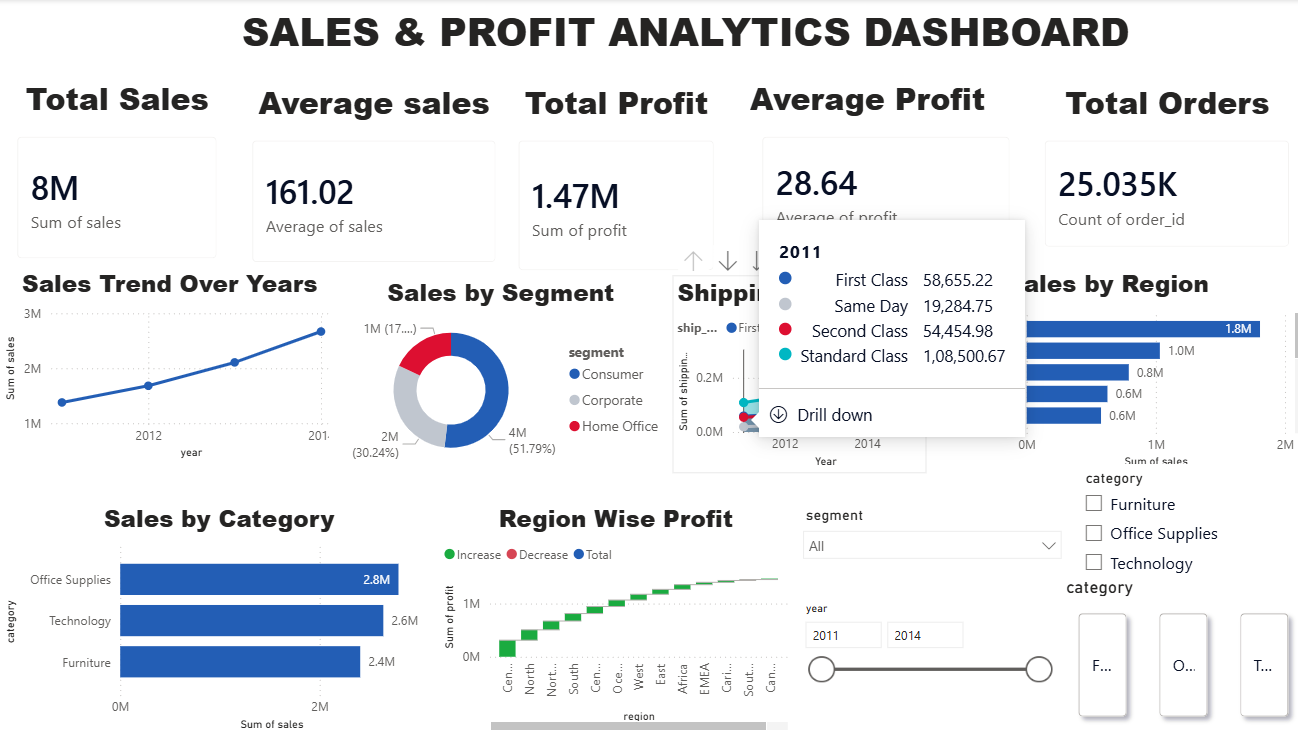

Layout of this report page (visuals, bound fields, positions):
{"tool":"powerbi","page":{"name":"Page 1","canvas":[1280,720],"ordinal":0},"visuals":[{"type":"cardVisual","title":"Total Profit","fields":{"Data":["Sum(superstore_cleaned_final csv.profit)"]},"box":[490.3,81.2,225.2,202.4],"z":0},{"type":"cardVisual","title":"Average Profit","fields":{"Data":["Avg(superstore_cleaned_final csv.profit)"]},"box":[728.4,77,276.5,183.9],"z":1000},{"type":"cardVisual","title":"Total Orders","fields":{"Data":["Count(superstore_cleaned_final csv.order_id)"]},"box":[1004.9,81.2,273.7,179.6],"z":2000},{"type":"cardVisual","title":"Total  Sales","fields":{"Data":["Sum(superstore_cleaned_final csv.sales)"]},"box":[0,77,229.5,193.9],"z":3000},{"type":"cardVisual","title":"Average  sales","fields":{"Data":["Avg(superstore_cleaned_final csv.sales)"]},"box":[229.5,81.2,272.2,193.9],"z":4000},{"type":"lineChart","title":"Sales Trend Over Years","fields":{"Y":["Sum(superstore_cleaned_final csv.sales)"],"Category":["superstore_cleaned_final csv.year"]},"box":[0,261.1,332.2,193.3],"z":5000},{"type":"clusteredBarChart","title":"Sales by Category","fields":{"Category":["superstore_cleaned_final csv.category"],"Y":["Sum(superstore_cleaned_final csv.sales)"]},"box":[0,491.1,428.9,228.9],"z":6000},{"type":"donutChart","title":"Sales by Segment","fields":{"Category":["superstore_cleaned_final csv.segment"],"Y":["Sum(superstore_cleaned_final csv.sales)"]},"box":[321.1,270,336.7,193.3],"z":7000},{"type":"clusteredBarChart","title":"Sales by Region","fields":{"Category":["superstore_cleaned_final csv.region"],"Y":["Sum(superstore_cleaned_final csv.sales)"]},"box":[887.8,261.1,392.2,202.2],"z":8000},{"type":"waterfallChart","title":"Region Wise Profit","fields":{"Category":["superstore_cleaned_final csv.region"],"Y":["Sum(superstore_cleaned_final csv.profit)"]},"box":[428.9,491.1,346.7,228.9],"z":9000},{"type":"slicer","fields":{"Values":["superstore_cleaned_final csv.category"]},"box":[1048.9,454.4,231.1,125.6],"z":10000},{"type":"slicer","fields":{"Values":["superstore_cleaned_final csv.year"]},"box":[775.6,584.4,262.2,135.6],"z":11000},{"type":"slicer","fields":{"Values":["superstore_cleaned_final csv.segment"]},"box":[775.6,491.1,273.3,93.3],"z":12000},{"type":"areaChart","title":"Shipping Cost","fields":{"Category":["superstore_cleaned_final csv.ship_date.Variation.Date Hierarchy.Year","superstore_cleaned_final csv.ship_date.Variation.Date Hierarchy.Quarter","superstore_cleaned_final csv.ship_date.Variation.Date Hierarchy.Month","superstore_cleaned_final csv.ship_date.Variation.Date Hierarchy.Day"],"Y":["Sum(superstore_cleaned_final csv.shipping_cost)"],"Series":["superstore_cleaned_final csv.ship_mode"]},"box":[657.8,270,248.9,193.3],"z":13000},{"type":"advancedSlicerVisual","fields":{"Values":["superstore_cleaned_final csv.category"]},"box":[1037.8,565.6,240,154.4],"z":14000},{"type":"textbox","box":[198.9,0,943.3,81.1],"z":15000}]}

Visuals, with their boxes in screenshot pixels (x1, y1, x2, y2), scaled from the page's 1280x720 canvas onto the 1298x730 screenshot:
"Total Profit" cardVisual: bbox=[497, 82, 726, 288]
"Average Profit" cardVisual: bbox=[739, 78, 1019, 265]
"Total Orders" cardVisual: bbox=[1019, 82, 1297, 264]
"Total  Sales" cardVisual: bbox=[0, 78, 233, 275]
"Average  sales" cardVisual: bbox=[233, 82, 509, 279]
"Sales Trend Over Years" lineChart: bbox=[0, 265, 337, 461]
"Sales by Category" clusteredBarChart: bbox=[0, 498, 435, 729]
"Sales by Segment" donutChart: bbox=[326, 274, 667, 470]
"Sales by Region" clusteredBarChart: bbox=[900, 265, 1297, 470]
"Region Wise Profit" waterfallChart: bbox=[435, 498, 787, 729]
slicer - superstore_cleaned_final csv.category: bbox=[1064, 461, 1297, 588]
slicer - superstore_cleaned_final csv.year: bbox=[787, 593, 1052, 729]
slicer - superstore_cleaned_final csv.segment: bbox=[787, 498, 1064, 593]
"Shipping Cost" areaChart: bbox=[667, 274, 919, 470]
advancedSlicerVisual - superstore_cleaned_final csv.category: bbox=[1052, 573, 1296, 729]
textbox: bbox=[202, 0, 1158, 82]
